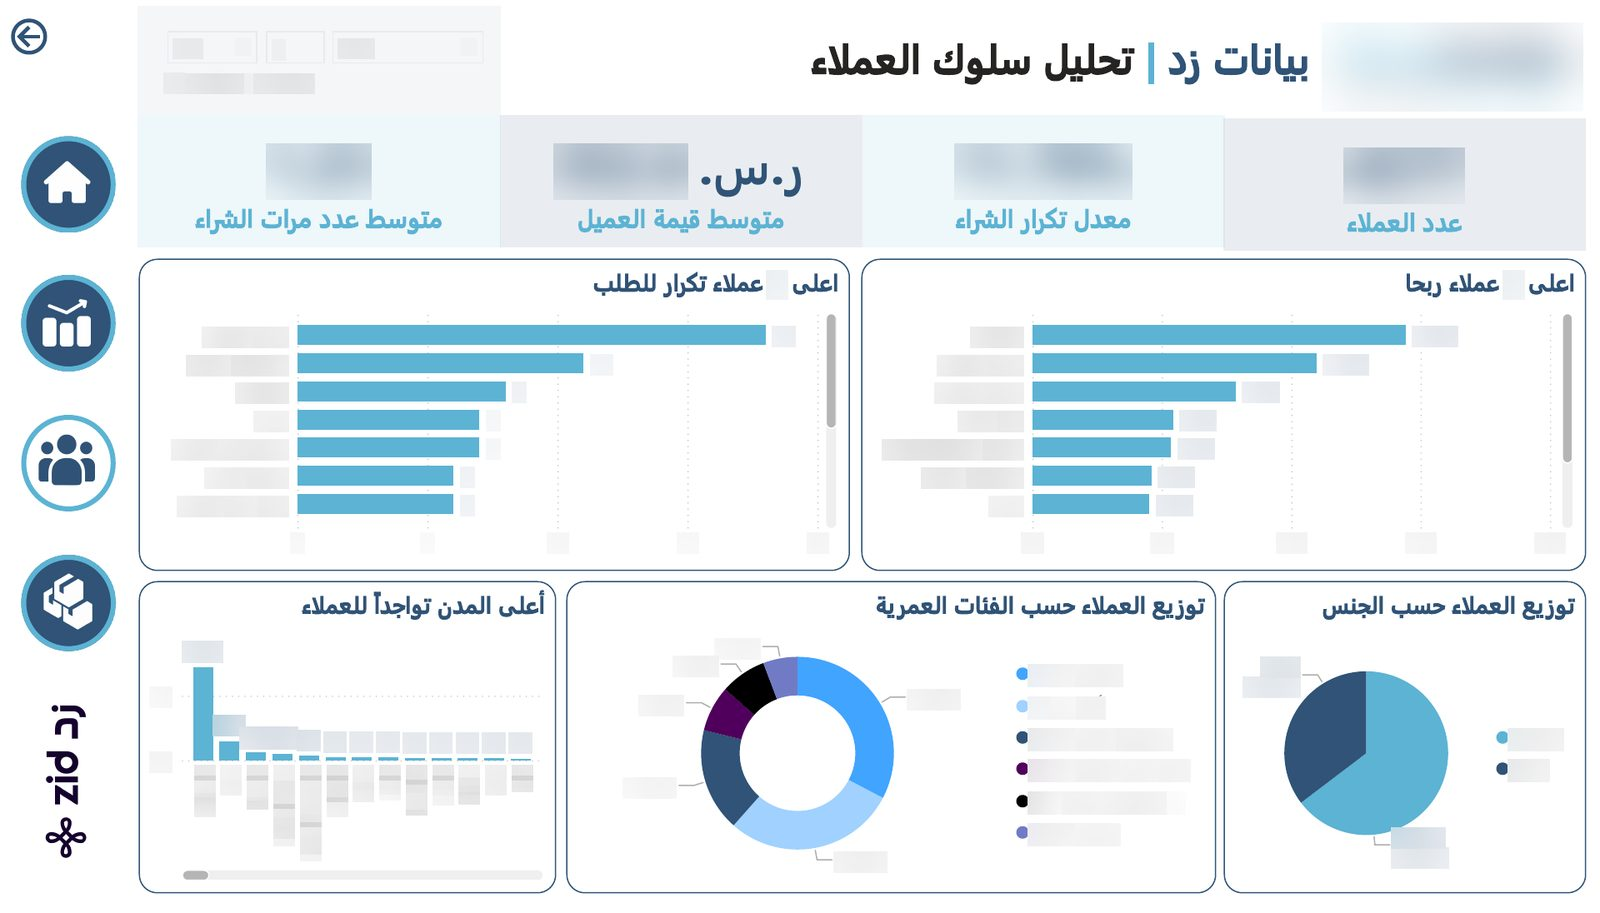

Layout of this report page (visuals, bound fields, positions):
{"tool":"powerbi","page":{"name":"بيانات زد | تحليل سلوك العملاء","canvas":[1280,720],"ordinal":6},"visuals":[{"type":"image","box":[1055,9,214,80],"z":0},{"type":"textbox","box":[478,14,575,64],"z":1000},{"type":"card","fields":{"Values":["zid_dim_customers.Zid Total Customers"]},"box":[979.1,89.5,289.5,105.8],"z":2000},{"type":"card","fields":{"Values":["zid_dim_customers.Repurchase Rate %"]},"box":[689.8,87.1,290,106],"z":3000},{"type":"card","fields":{"Values":["zid_dim_customers.Avg Customer Lifetime Value"]},"box":[400.5,87.1,290,106],"z":4000},{"type":"pieChart","title":"توزيع العملاء حسب الجنس","fields":{"Category":["zid_dim_customers.gender"],"Y":["CountNonNull(zid_dim_customers.gender)"]},"box":[979,460,290,250],"z":5000},{"type":"donutChart","title":"توزيع العملاء حسب الفئات العمرية","fields":{"Category":["zid_dim_customers.Age Group"],"Y":["CountNonNull(zid_dim_customers.customer_id)"]},"box":[453,460,520,250],"z":6000},{"type":"columnChart","title":"أعلى المدن تواجداً للعملاء","fields":{"Category":["zid_dim_customers.city_name"],"Y":["CountNonNull(zid_dim_customers.customer_id)"]},"box":[111,460,334,250],"z":7000},{"type":"card","fields":{"Values":["zid_dim_customers.Avg Orders Per Customer"]},"box":[110.5,87.2,290.7,105.8],"z":8000},{"type":"slicer","fields":{"Values":["zid_fact_orders.created_at"]},"box":[110.5,0,290.7,87.2],"z":9000},{"type":"clusteredBarChart","title":"اعلى ١٠ عملاء ربحا","fields":{"Category":["zid_dim_customers.name"],"Y":["zid_fact_orders.Zid Total Revenue"]},"box":[689,202,580,250],"z":10000},{"type":"clusteredBarChart","title":"اعلى ١٠ عملاء تكرار للطلب","fields":{"Category":["zid_dim_customers.name"],"Y":["zid_fact_orders.Zid Total Orders"]},"box":[111,202,569,250],"z":11000},{"type":"shape","box":[16.7,326.8,75.6,77.3],"z":12000},{"type":"image","box":[12.3,529.7,84.3,181],"z":13000},{"type":"image","box":[26.4,335.5,55.5,56.4],"z":14000},{"type":"actionButton","box":[4.3,0,38.6,48.6],"z":15000},{"type":"shape","box":[16.7,103.7,75.6,77.3],"z":16000},{"type":"image","box":[27.2,114.2,53.6,53.6],"z":17000},{"type":"shape","box":[17.1,438.6,75.7,77.1],"z":18000},{"type":"image","box":[25.7,442.9,57.1,67.1],"z":19000},{"type":"shape","box":[16.7,215.2,75.6,77.3],"z":20000},{"type":"image","box":[25.5,227.3,57.3,52.7],"z":21000}]}

Visuals, with their boxes in screenshot pixels (x1, y1, x2, y2), scaled from the page's 1280x720 canvas onto the 1600x913 screenshot:
image: pyautogui.locateOnScreen(1319, 11, 1586, 113)
textbox: pyautogui.locateOnScreen(598, 18, 1316, 99)
card - zid_dim_customers.Zid Total Customers: pyautogui.locateOnScreen(1224, 113, 1586, 248)
card - zid_dim_customers.Repurchase Rate %: pyautogui.locateOnScreen(862, 110, 1225, 245)
card - zid_dim_customers.Avg Customer Lifetime Value: pyautogui.locateOnScreen(501, 110, 863, 245)
"توزيع العملاء حسب الجنس" pieChart: pyautogui.locateOnScreen(1224, 583, 1586, 900)
"توزيع العملاء حسب الفئات العمرية" donutChart: pyautogui.locateOnScreen(566, 583, 1216, 900)
"أعلى المدن تواجداً للعملاء" columnChart: pyautogui.locateOnScreen(139, 583, 556, 900)
card - zid_dim_customers.Avg Orders Per Customer: pyautogui.locateOnScreen(138, 111, 502, 245)
slicer - zid_fact_orders.created_at: pyautogui.locateOnScreen(138, 0, 502, 111)
"اعلى ١٠ عملاء ربحا" clusteredBarChart: pyautogui.locateOnScreen(861, 256, 1586, 573)
"اعلى ١٠ عملاء تكرار للطلب" clusteredBarChart: pyautogui.locateOnScreen(139, 256, 850, 573)
shape: pyautogui.locateOnScreen(21, 414, 115, 512)
image: pyautogui.locateOnScreen(15, 672, 121, 901)
image: pyautogui.locateOnScreen(33, 425, 102, 497)
actionButton: pyautogui.locateOnScreen(5, 0, 54, 62)
shape: pyautogui.locateOnScreen(21, 131, 115, 230)
image: pyautogui.locateOnScreen(34, 145, 101, 213)
shape: pyautogui.locateOnScreen(21, 556, 116, 654)
image: pyautogui.locateOnScreen(32, 562, 104, 647)
shape: pyautogui.locateOnScreen(21, 273, 115, 371)
image: pyautogui.locateOnScreen(32, 288, 104, 355)
